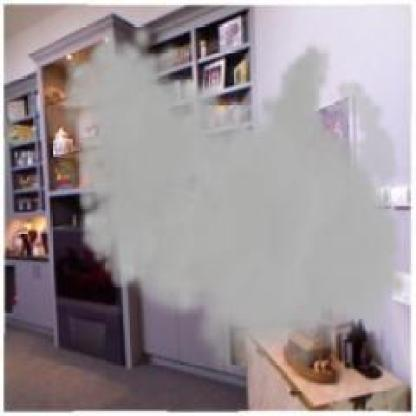Smoke: (59, 20, 411, 382)
